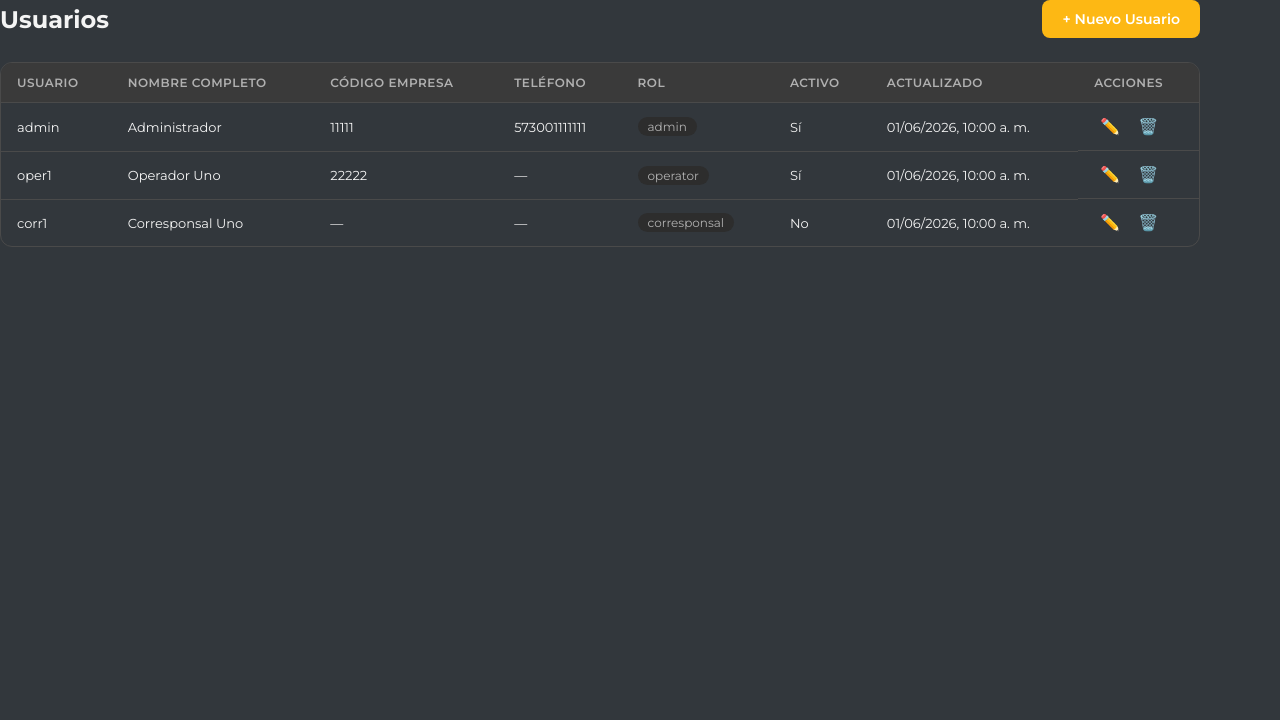
Test case: AdminUsers — crear usuario (R3) › HTTP 409 muestra error y modal NO se cierra (C3)
Click the button "+ Nuevo Usuario".
click(1121, 19)  # box [1042,0,1200,38]
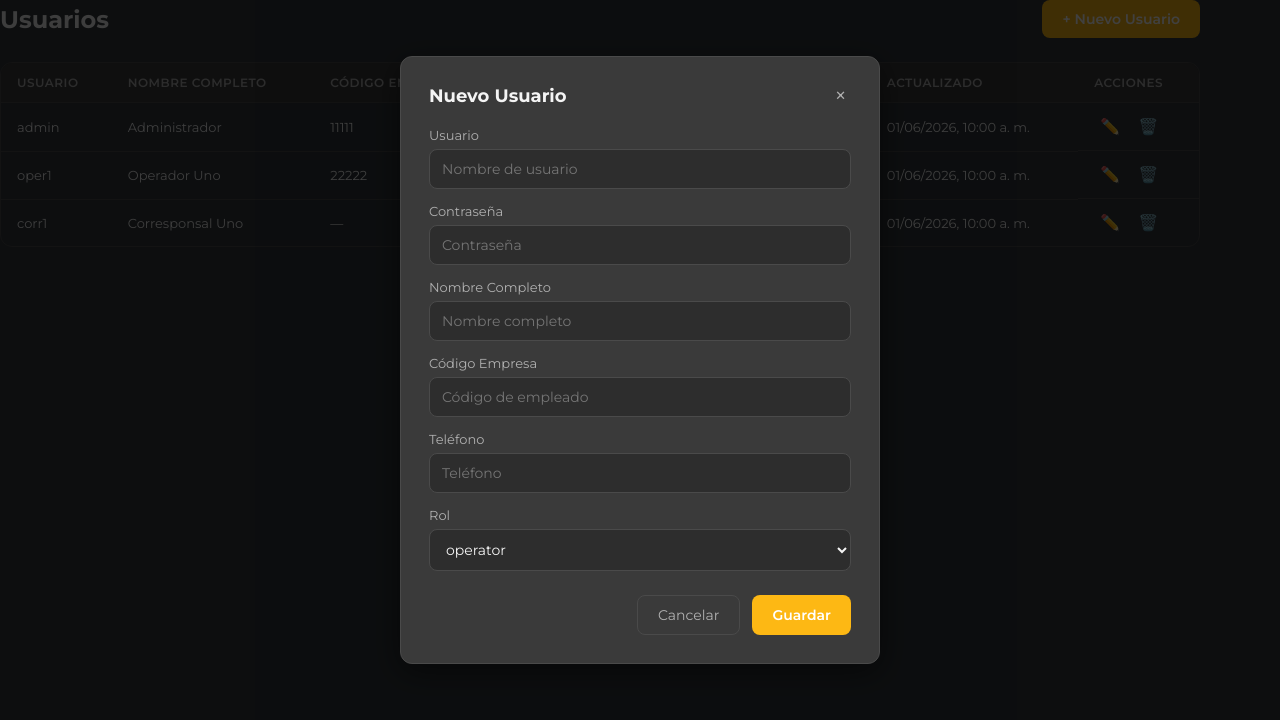
Type "admin" into the field with placeholder "Nombre de usuario".
click(640, 169); type("admin")  # box [429,149,851,189]
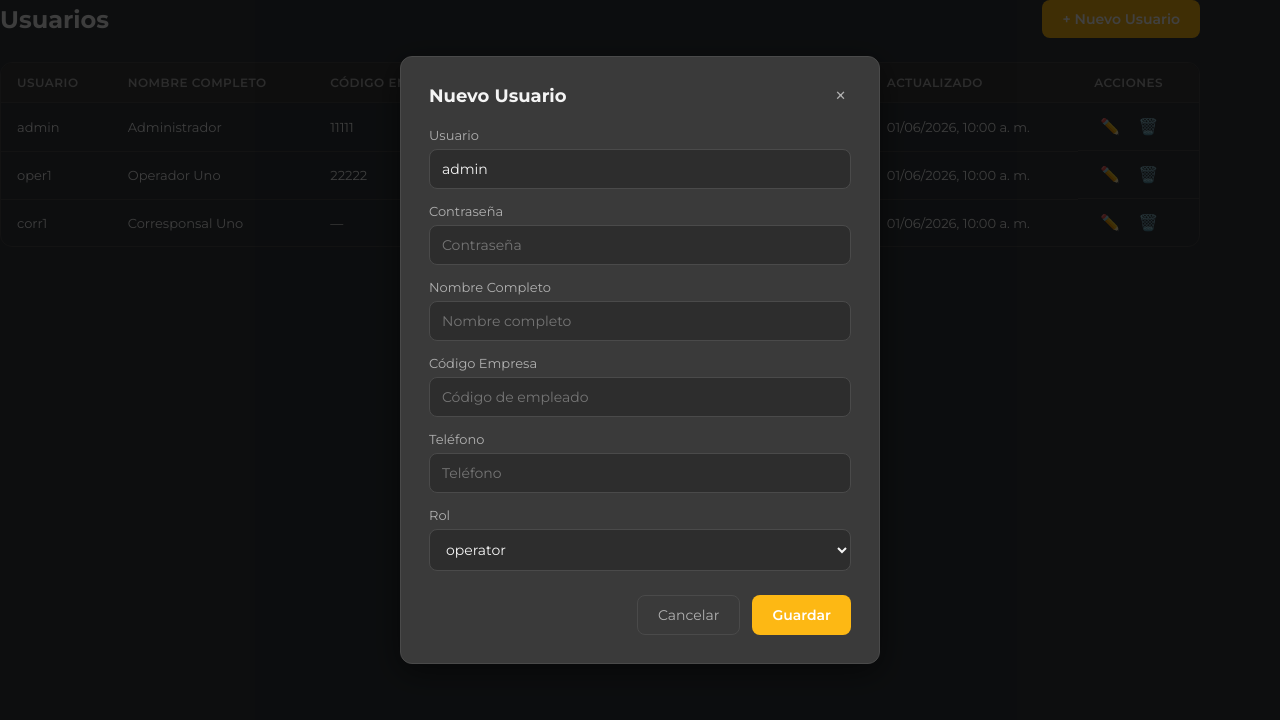
Type "pass123" into the password field with placeholder "Contraseña".
click(640, 245); type("pass123")  # box [429,225,851,265]
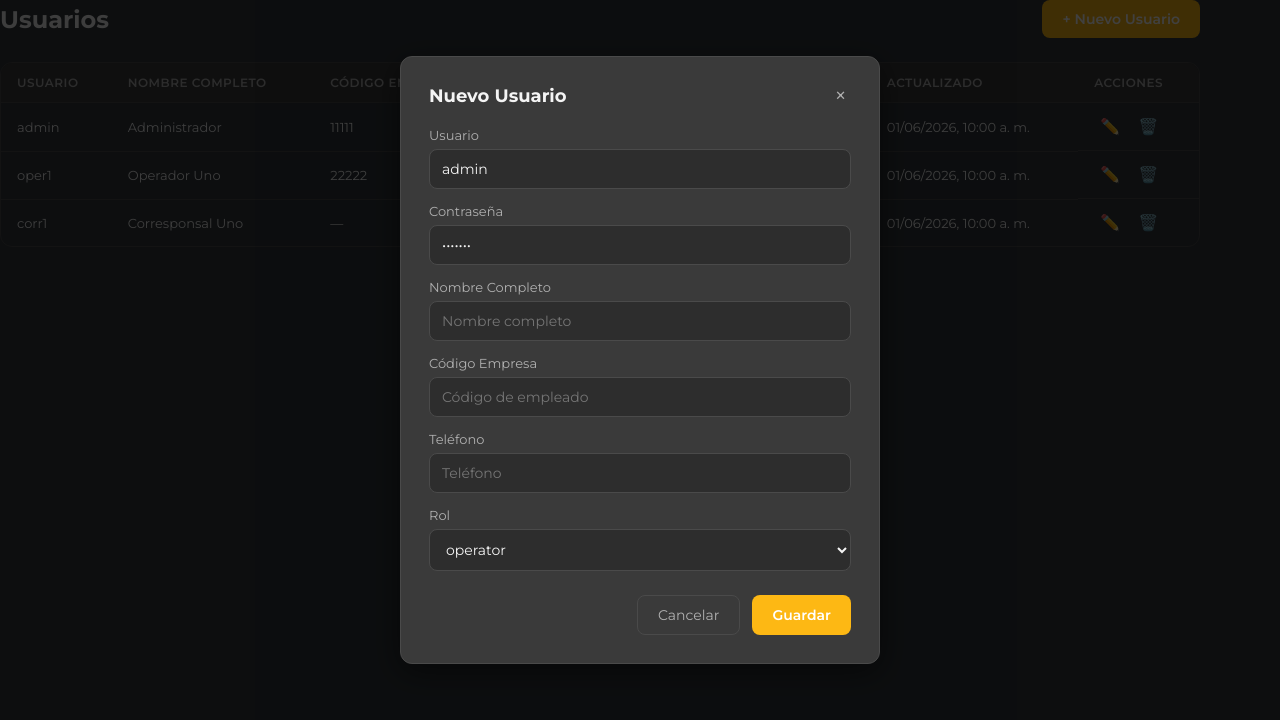
Type "Admin Duplicado" into the field with placeholder "Nombre Completo".
click(640, 321); type("Admin Duplicado")  # box [429,301,851,341]
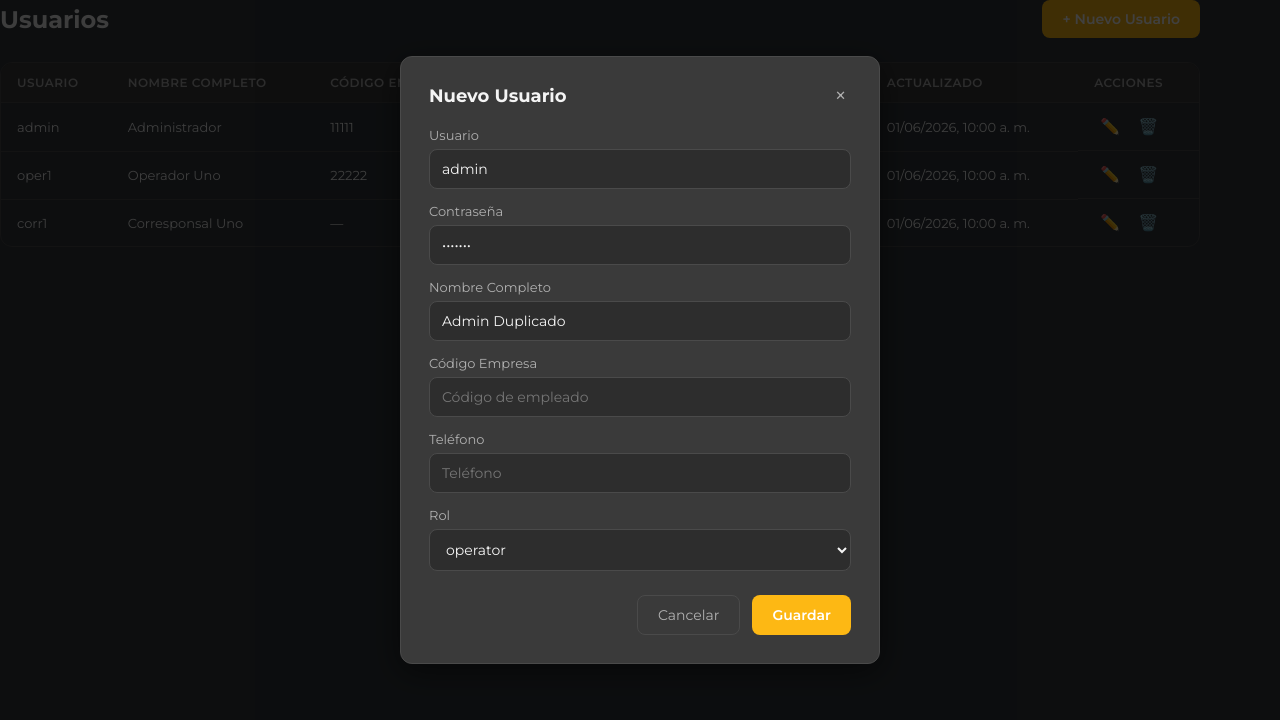
Click the button "Guardar".
click(802, 615)  # box [752,595,851,635]
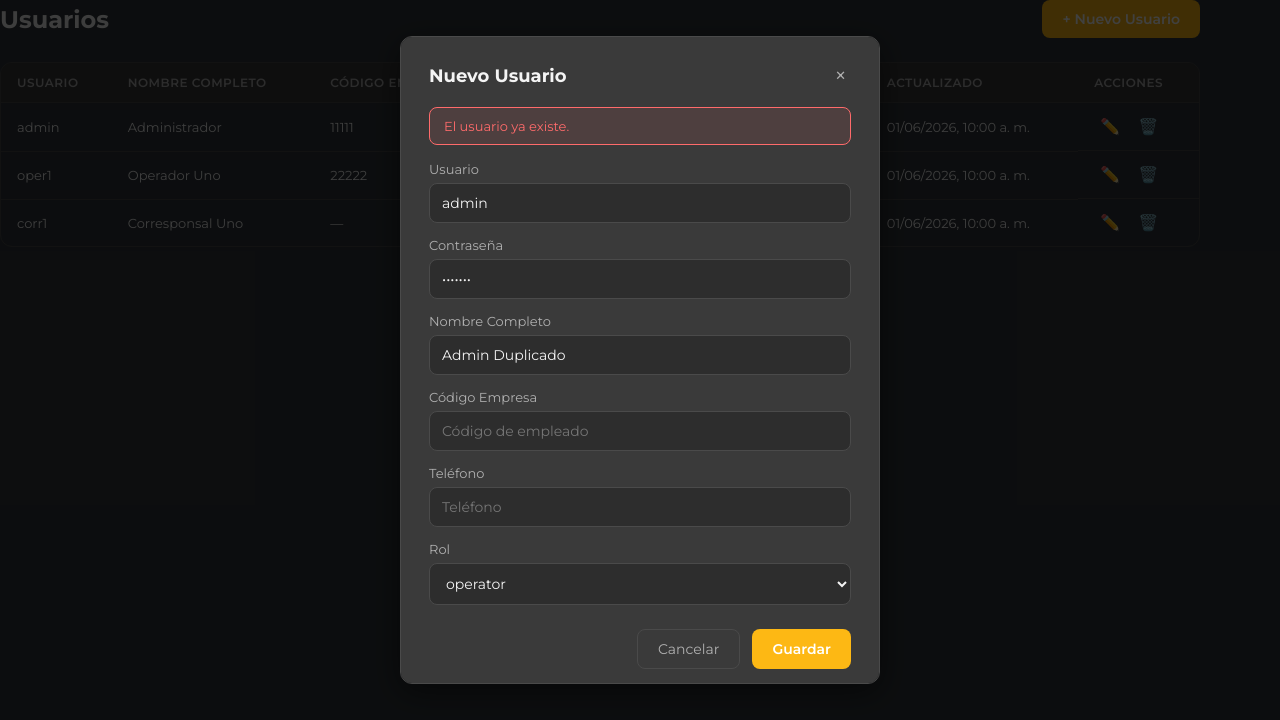
expect the heading "Nuevo Usuario" is shown: met, box [429,65,567,87]
expect the text "El usuario ya existe." is shown: met, box [429,107,851,145]
